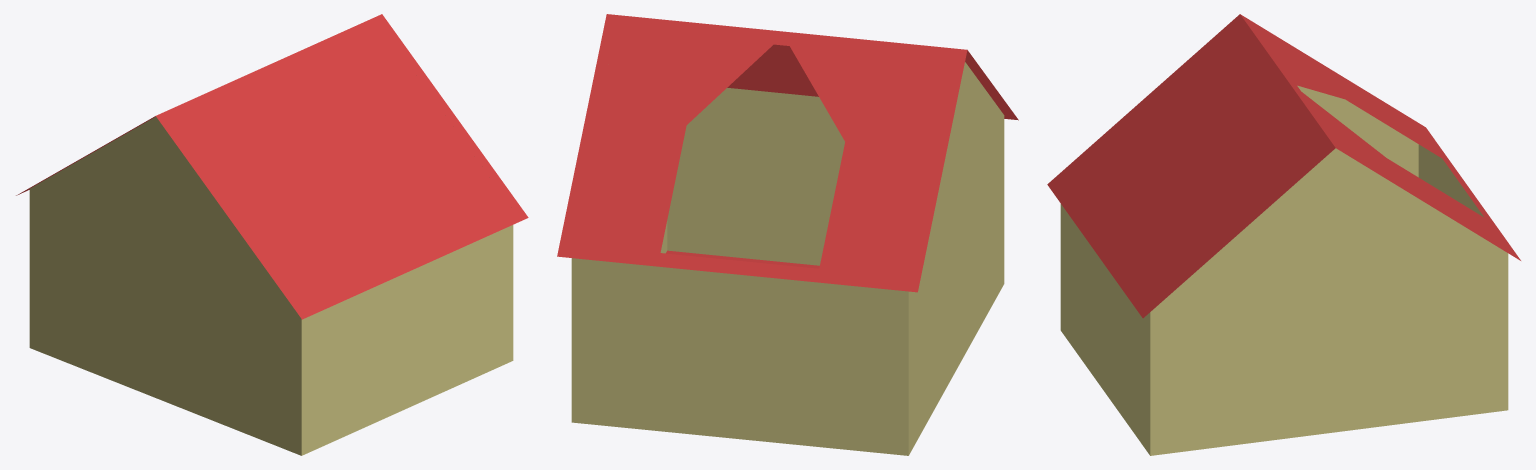
3 views of the same model, side by side, from view 1: azimuth 30°, elevation 25°; view 2: azimuth 150°, elevation 25°; view 3: azimuth 270°, elevation 25° (orthographic). The views are drawn at different scales.
Bounding box in the file's own units: 19.73 × 21.68 × 14.57.
